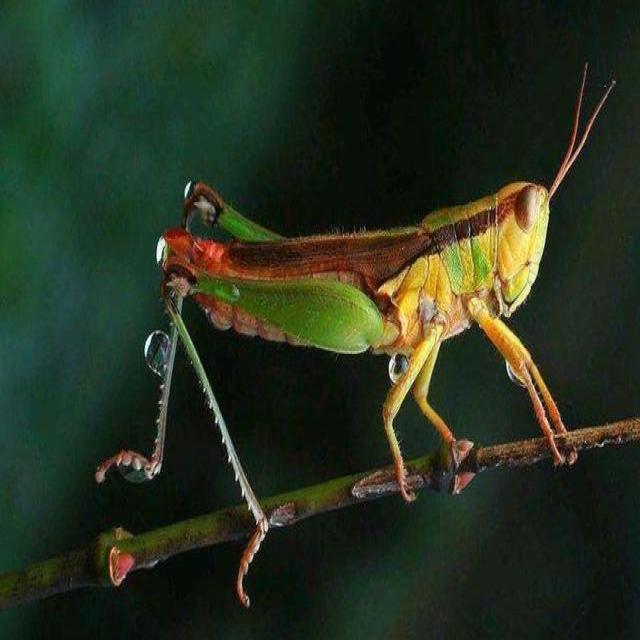ZhaMeng: (129, 93, 618, 503)
